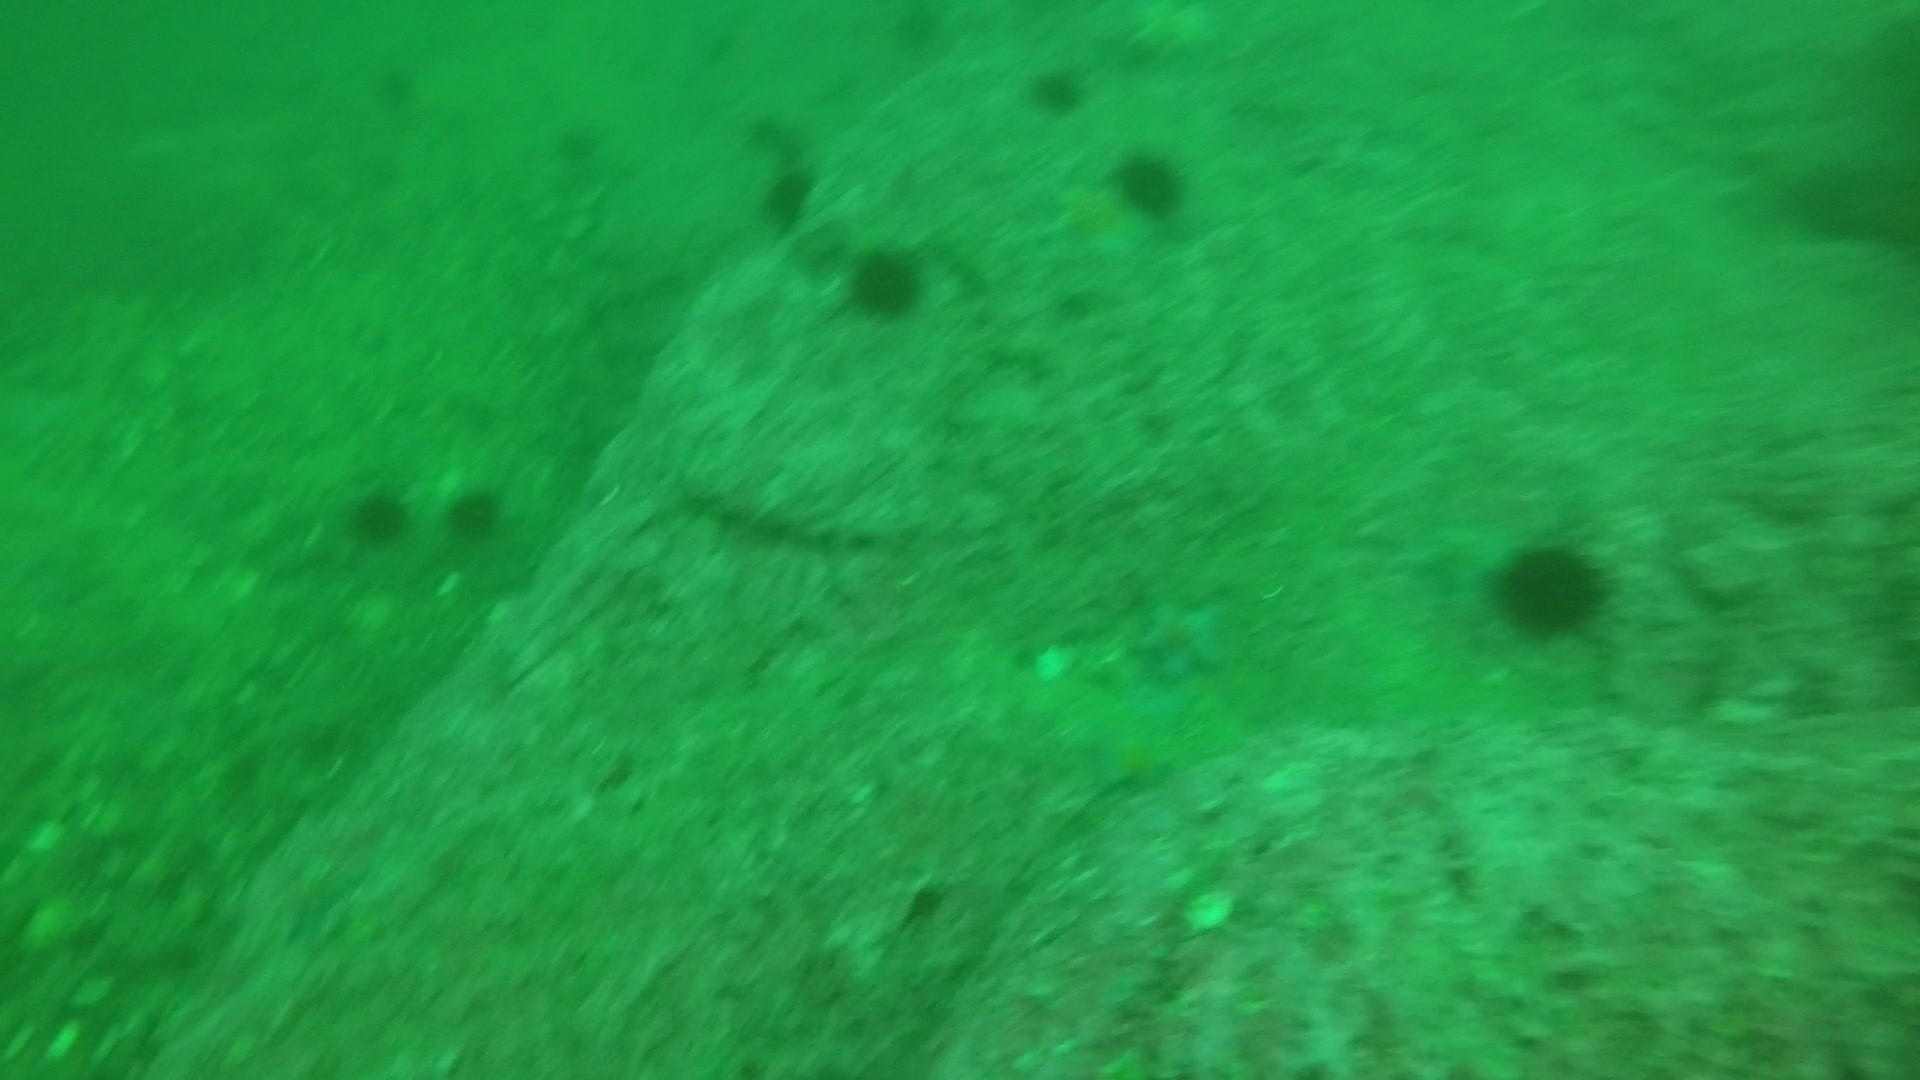echinus: (1485, 531, 1615, 644), (1776, 149, 1916, 252), (841, 241, 930, 323), (1108, 142, 1193, 223), (342, 481, 414, 549), (440, 479, 510, 545), (756, 160, 820, 231), (1022, 61, 1091, 119), (368, 57, 425, 111), (771, 128, 814, 164), (742, 113, 785, 148)
starfish: (268, 841, 378, 951), (1124, 585, 1234, 686), (1043, 173, 1147, 260), (1083, 723, 1180, 800)
